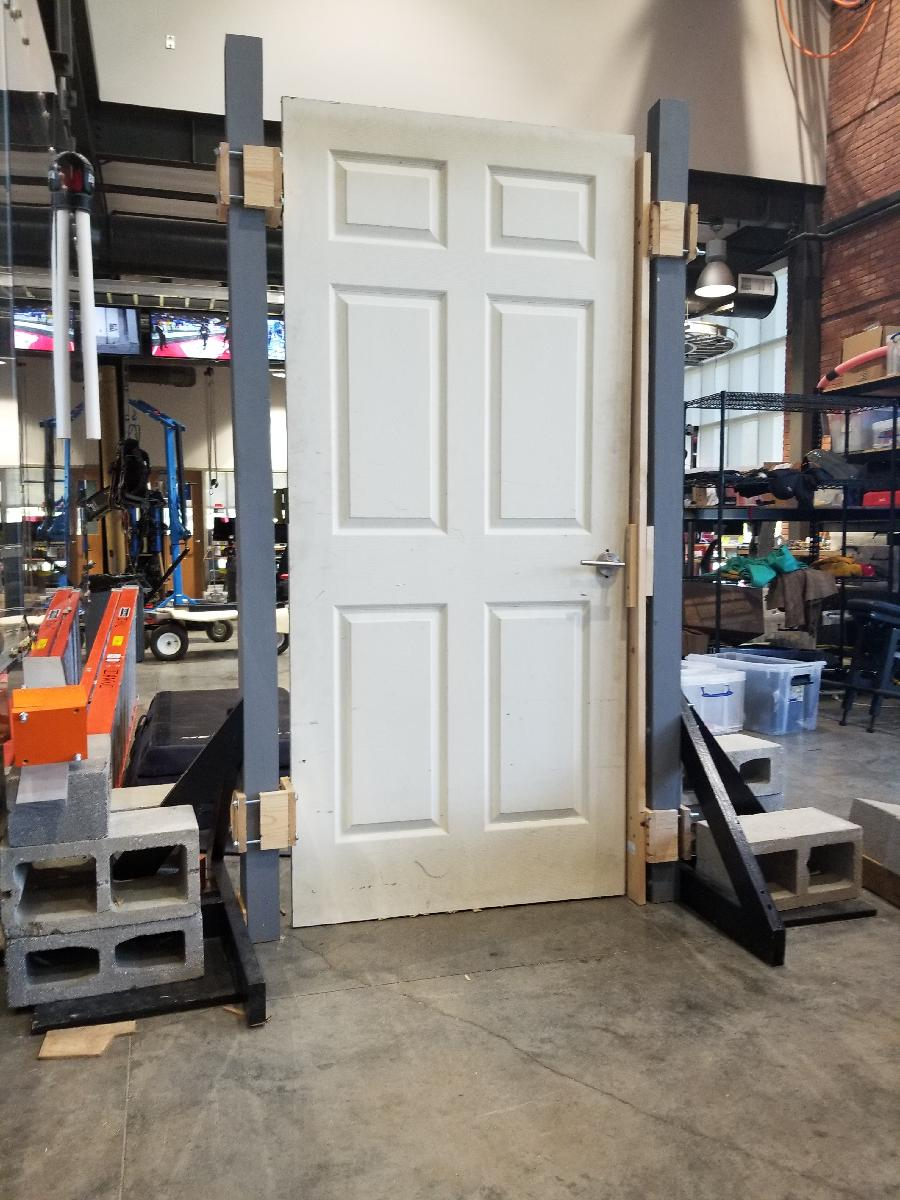door: (276, 94, 638, 933)
doorHandle: (580, 546, 629, 585)
